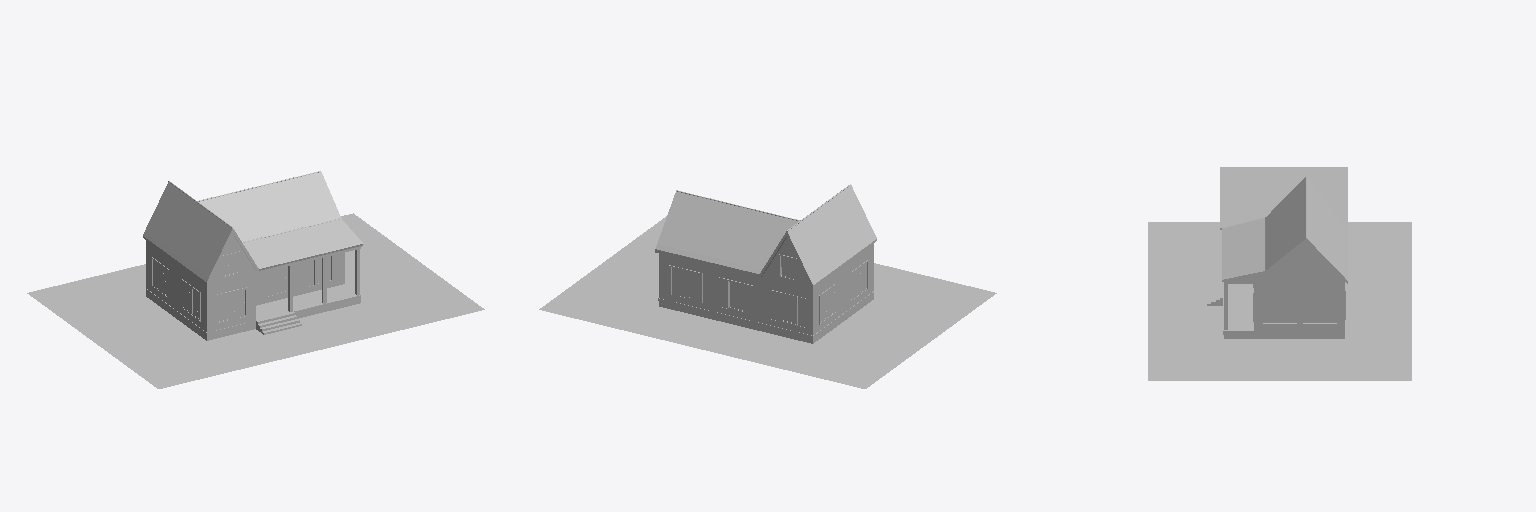
The model's file is house.obj.
3 views of the same model, side by side, from view 1: azimuth 30°, elevation 25°; view 2: azimuth 150°, elevation 25°; view 3: azimuth 270°, elevation 25° (orthographic).
Parts seen in each view (by area): view 1: Plane.005; view 2: Plane.005; view 3: Plane.005.
Part boxes in pixels (x1,y1,x2,y2): Plane.005: (27, 171, 484, 388); Plane.005: (539, 184, 996, 388); Plane.005: (1148, 167, 1411, 380).
Bounding box in the file's own units: 50.38 × 18.62 × 35.2.